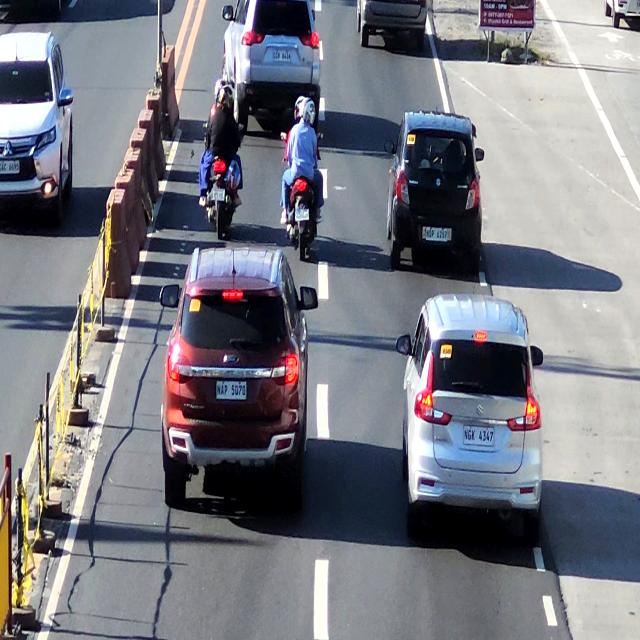Car: (162, 246, 306, 504), (401, 297, 547, 539), (392, 114, 483, 274), (220, 0, 321, 125), (357, 0, 428, 46)
License-Plate: (213, 371, 249, 407), (462, 419, 497, 450), (425, 223, 450, 246), (270, 46, 293, 67), (293, 204, 311, 223), (210, 186, 227, 203)
Motorcycle: (282, 98, 322, 263), (202, 78, 242, 239)
